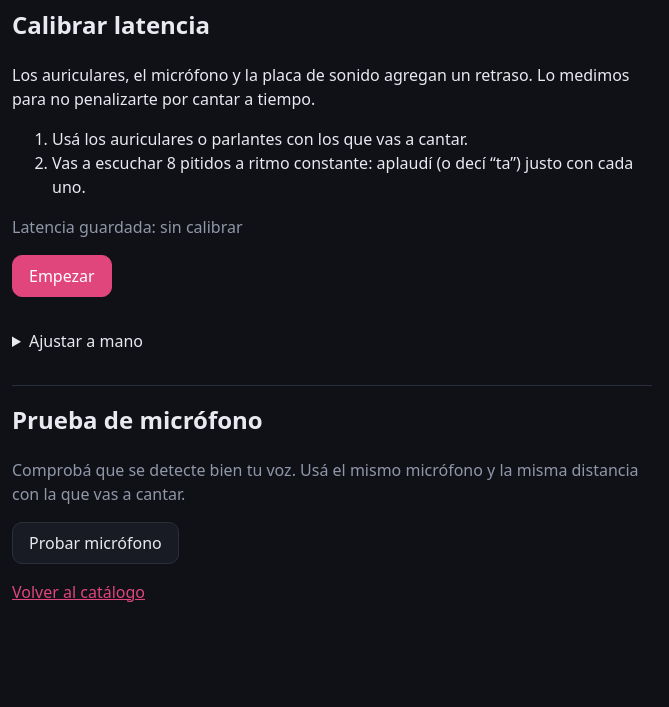
Test: CalibrationPage › explains failed measurements and lets the player repeat
The image size is (669, 707).
What coordinates should you click on to do the following:
click the button "Empezar"
I would click on:
 (62, 276)
Its box is left=12, top=255, right=112, bottom=297.
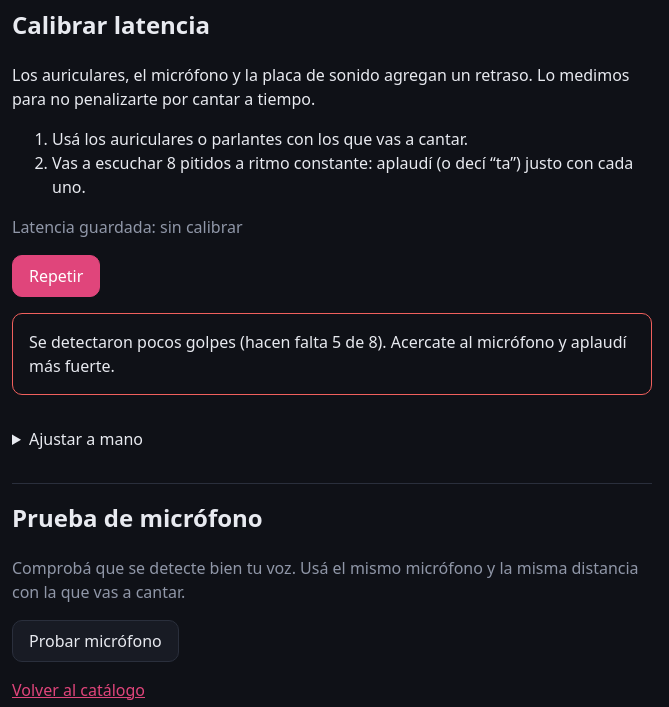
expect the message shows "pocos golpes": met, box left=29, top=331, right=627, bottom=377
expect the button "Repetir" is shown: met, box left=12, top=255, right=100, bottom=297
